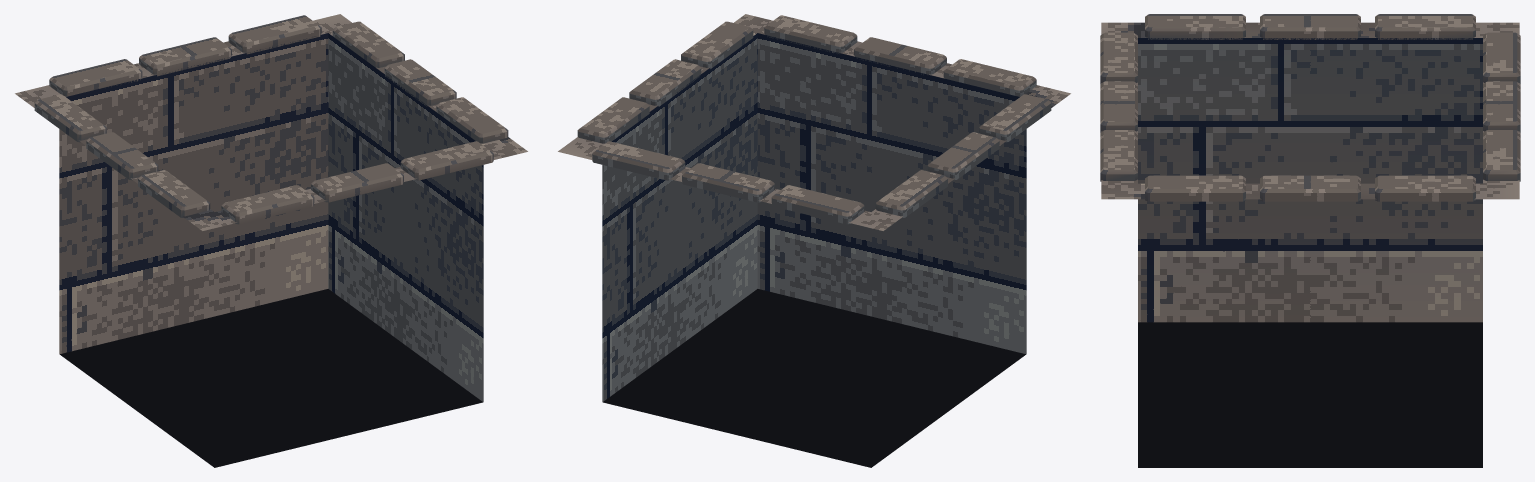
The model's file is dgn.pit__full.glb.
3 renders of one model, left to right at view 1: azimuth 30°, elevation 25°; view 2: azimuth 150°, elevation 25°; view 3: azimuth 270°, elevation 25°, orthographic. The views are drawn at different scales.
Visible parts, largest first — view 1: kit_shell_shaft, kit_card_void, kit_rim, kit_shell_floor; view 2: kit_shell_shaft, kit_card_void, kit_rim, kit_shell_floor; view 3: kit_shell_shaft, kit_card_void, kit_rim, kit_shell_floor.
Boxes of the visible parts, left/top/right/bottom form: kit_shell_shaft: left=59, top=33, right=483, bottom=401; kit_card_void: left=60, top=289, right=482, bottom=467; kit_rim: left=34, top=15, right=508, bottom=224; kit_shell_floor: left=15, top=14, right=527, bottom=230; kit_shell_shaft: left=602, top=33, right=1026, bottom=401; kit_card_void: left=603, top=289, right=1025, bottom=467; kit_rim: left=577, top=15, right=1051, bottom=224; kit_shell_floor: left=558, top=14, right=1070, bottom=230; kit_shell_shaft: left=1138, top=38, right=1482, bottom=322; kit_card_void: left=1138, top=322, right=1482, bottom=467; kit_rim: left=1100, top=14, right=1520, bottom=201; kit_shell_floor: left=1101, top=22, right=1519, bottom=199.
Size of the model in its own units: 4.02 by 3.1 by 4.02.
Materials: 4 (4 with a texture image).
